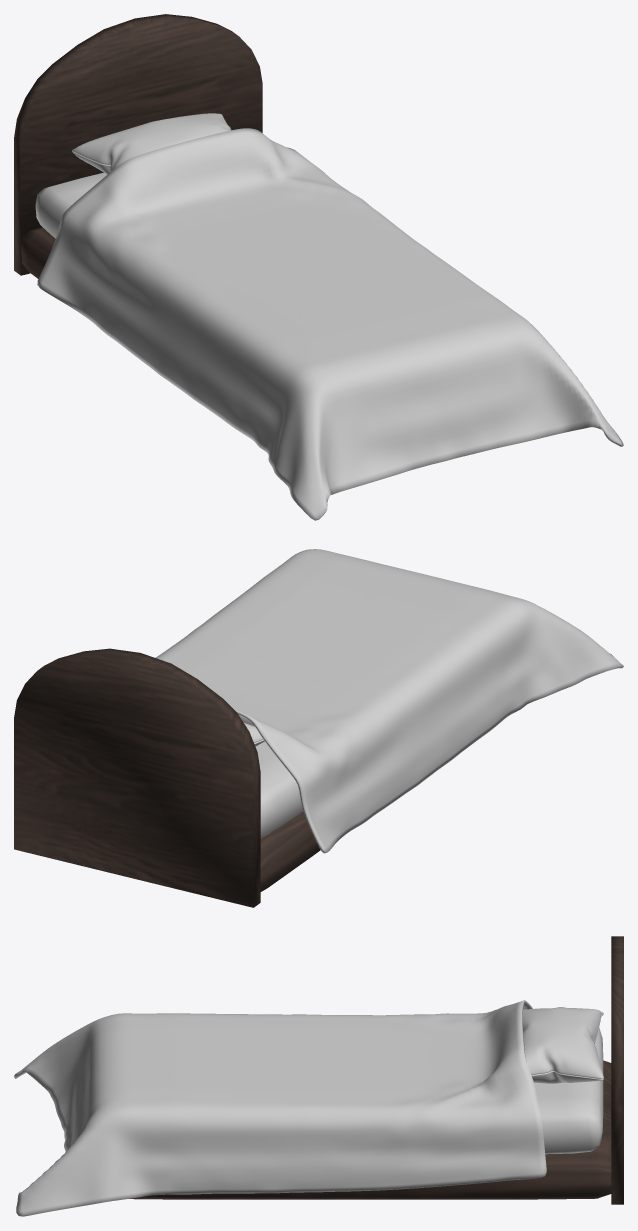
The model's file is Bed.fbx.
3 views of the same model, one above another, from view 1: azimuth 30°, elevation 25°; view 2: azimuth 150°, elevation 25°; view 3: azimuth 270°, elevation 25° (orthographic). The views are drawn at different scales.
Parts seen in each view (by area): view 1: Cover; view 2: Cover; view 3: Cover.
Part boxes in pixels (x1,y1,x2,y2): Cover: [14, 14, 623, 520]; Cover: [14, 549, 623, 907]; Cover: [14, 936, 623, 1216].
Bounding box in the file's own units: 132 × 88.01 × 242.
